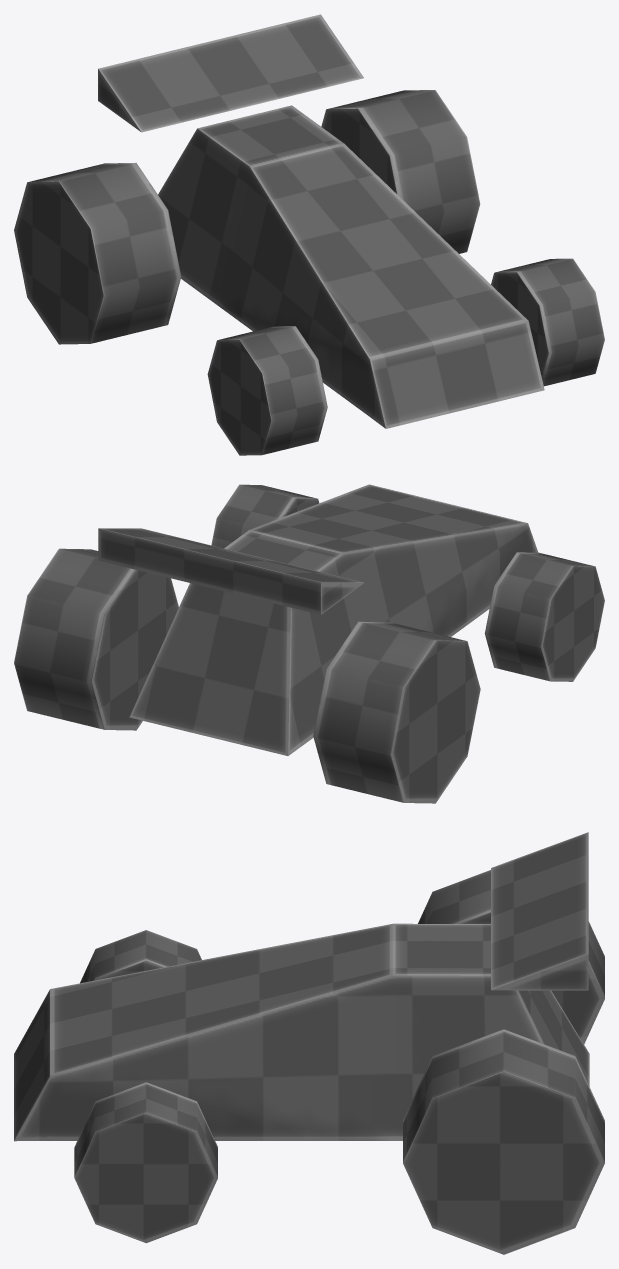
File: car2002.FBX
The picture shows the model from 3 angles, top to bottom: view 1: azimuth 30°, elevation 25°; view 2: azimuth 150°, elevation 25°; view 3: azimuth 270°, elevation 25°; orthographic projection. The views are drawn at different scales.
Visible parts, largest first — view 1: vehicle, wheelBR, wheelBL, wheelFR, wheelFL; view 2: vehicle, wheelBR, wheelBL, wheelFR, wheelFL; view 3: vehicle, wheelBL, wheelFL, wheelBR, wheelFR.
Boxes of the visible parts, x1,y1,x2,y2 form: vehicle: (98, 14, 544, 428); wheelBR: (14, 163, 181, 344); wheelBL: (321, 90, 480, 253); wheelFR: (207, 326, 327, 455); wheelFL: (491, 258, 604, 386); vehicle: (98, 484, 538, 755); wheelBR: (313, 621, 480, 803); wheelBL: (14, 548, 178, 730); wheelFR: (484, 552, 604, 681); wheelFL: (211, 484, 319, 548); vehicle: (14, 832, 589, 1141); wheelBL: (403, 1029, 604, 1254); wheelFL: (74, 1082, 217, 1243); wheelBR: (418, 870, 604, 1044); wheelFR: (80, 930, 201, 983).
Bounding box in the file's own units: 69.72 × 40.62 × 84.21.
